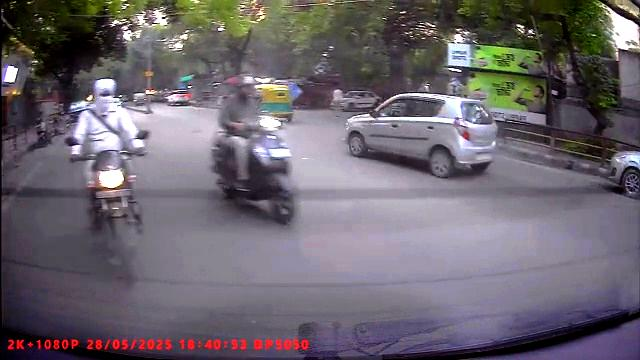motorcycle_with_helmet: (66, 75, 151, 282), (208, 74, 299, 226)
